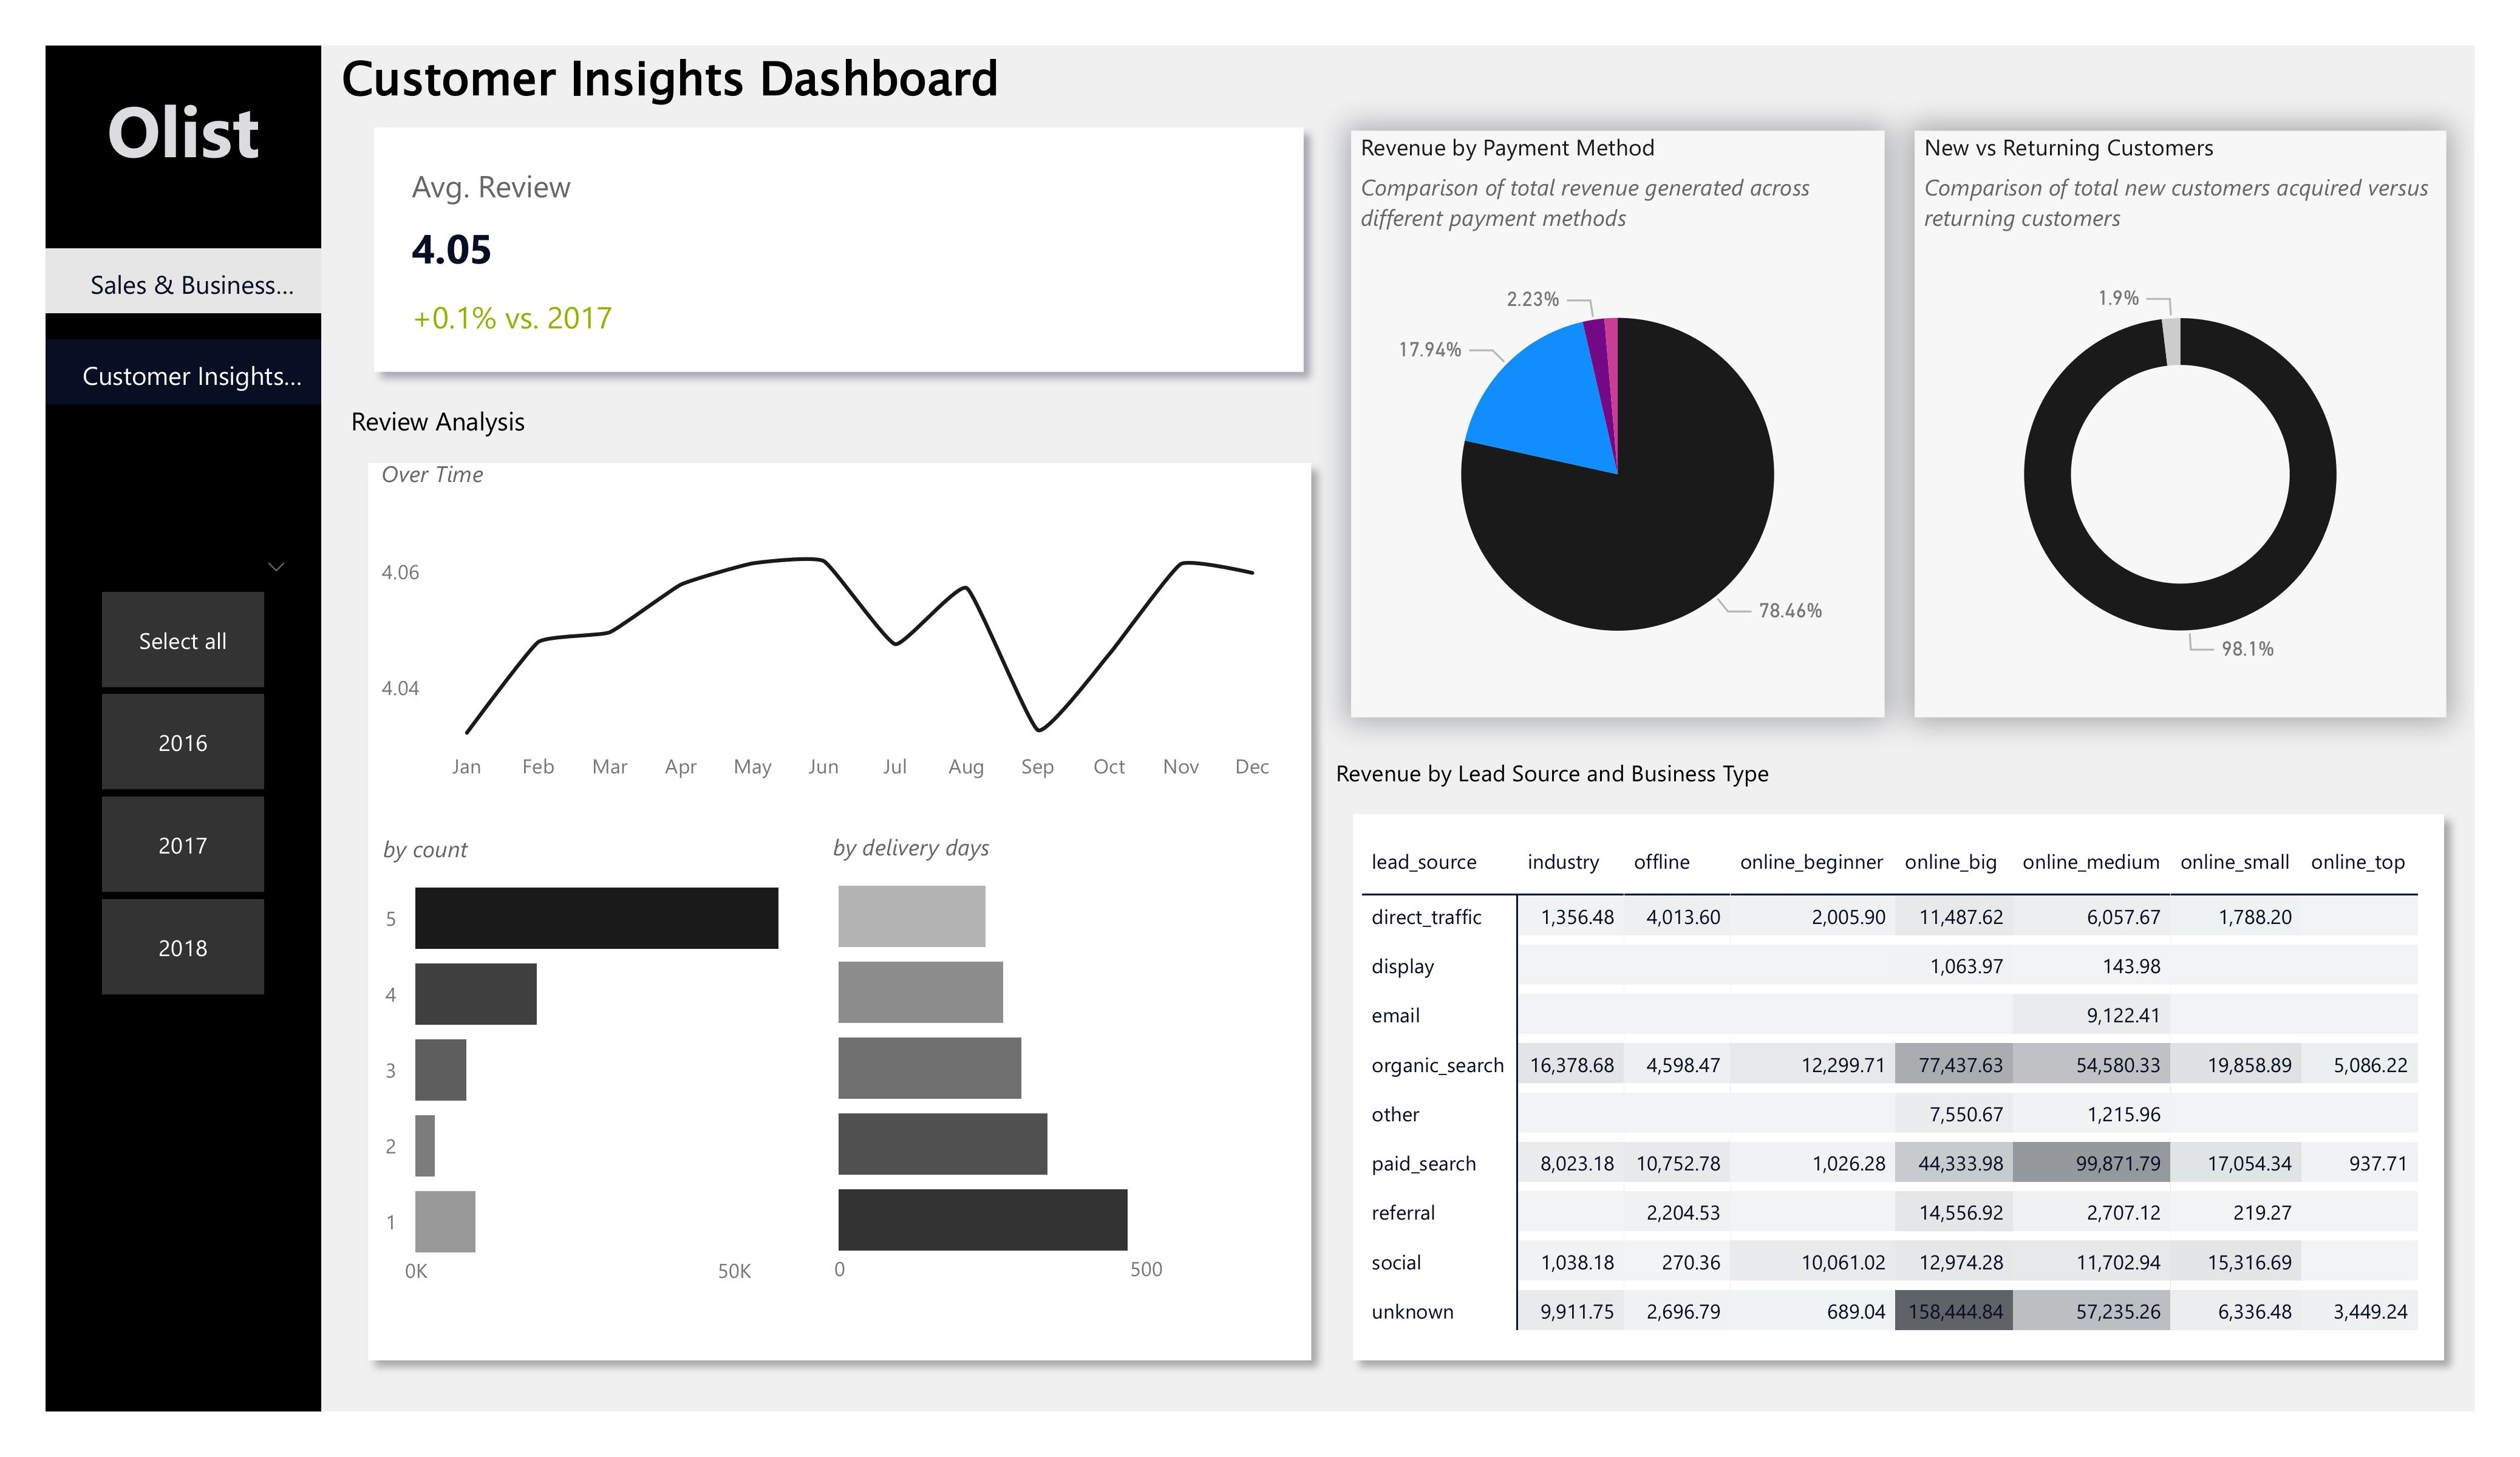

Layout of this report page (visuals, bound fields, positions):
{"tool":"powerbi","page":{"name":"Customer Insights Dashboard","canvas":[1280,720],"ordinal":1},"visuals":[{"type":"cardVisual","fields":{"Data":["Avg(products.avg_review_score)"]},"box":[156.3,26.3,524.2,162.4],"z":0},{"type":"shape","title":"Review Analysis","box":[160.8,188.8,515.5,513.6],"z":1000},{"type":"shape","title":"fffdfggggggggggggggg","box":[1,0,145,720],"z":2000},{"type":"slicer","fields":{"Values":["Date.Year"]},"box":[3.9,263.4,135,244],"z":3000},{"type":"barChart","title":"by count","fields":{"Category":["review.review_score"],"Y":["Sum(review.count_reviews)"]},"box":[173.1,430.9,236.4,233.4],"z":4000},{"type":"barChart","title":"by delivery days","fields":{"Category":["review.review_score"],"Y":["Sum(review.avg_delivery_days)"]},"box":[409.5,430.9,216.9,232.5],"z":5000},{"type":"shape","title":"Revenue by Lead Source and Business Type","box":[680.5,374.9,592.7,327.5],"z":6000},{"type":"pivotTable","fields":{"Rows":["lead.lead_source"],"Columns":["lead.lead_type"],"Values":["Sum(lead.revenue_generated)"]},"box":[689.3,404.8,576,297.7],"z":7000},{"type":"donutChart","title":"New vs Returning Customers","fields":{"Y":["Sum(Region.new_customers)","Sum(Region.returning_customers)"]},"box":[985.2,44.8,280.1,309.1],"z":8000},{"type":"pieChart","title":"Revenue by Payment Method","fields":{"Category":["payment.payment_type"],"Y":["Sum(payment.total_revenue)"]},"box":[688.4,44.8,281,309.1],"z":9000},{"type":"lineChart","title":"Over Time","fields":{"Category":["Date.MonthName"],"Y":["Avg(products.avg_review_score)"]},"box":[172.5,217,483.4,180.9],"z":10000},{"type":"shape","title":"Customer Insights Dashboard","box":[156.3,0,1109,36.9],"z":11000},{"type":"pageNavigator","box":[4,105,141,93],"z":11001}]}

Visuals, with their boxes on the page's 1280x720 design canvas (x1, y1, x2, y2). These are canvas units, not pixel positions in the 2520x1457 screenshot, which may show the page scaled, cropped or inside an application window:
cardVisual - Avg(products.avg_review_score): select_region(156, 26, 680, 189)
"Review Analysis" shape: select_region(161, 189, 676, 702)
"fffdfggggggggggggggg" shape: select_region(1, 0, 146, 720)
slicer - Date.Year: select_region(4, 263, 139, 507)
"by count" barChart: select_region(173, 431, 410, 664)
"by delivery days" barChart: select_region(410, 431, 626, 663)
"Revenue by Lead Source and Business Type" shape: select_region(680, 375, 1273, 702)
pivotTable - lead.lead_source x lead.lead_type: select_region(689, 405, 1265, 702)
"New vs Returning Customers" donutChart: select_region(985, 45, 1265, 354)
"Revenue by Payment Method" pieChart: select_region(688, 45, 969, 354)
"Over Time" lineChart: select_region(172, 217, 656, 398)
"Customer Insights Dashboard" shape: select_region(156, 0, 1265, 37)
pageNavigator: select_region(4, 105, 145, 198)
